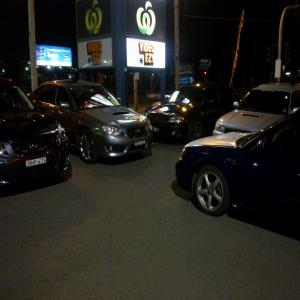Vehicle-registration-plate: (26, 158, 47, 169), (136, 141, 146, 147), (154, 127, 160, 132)
